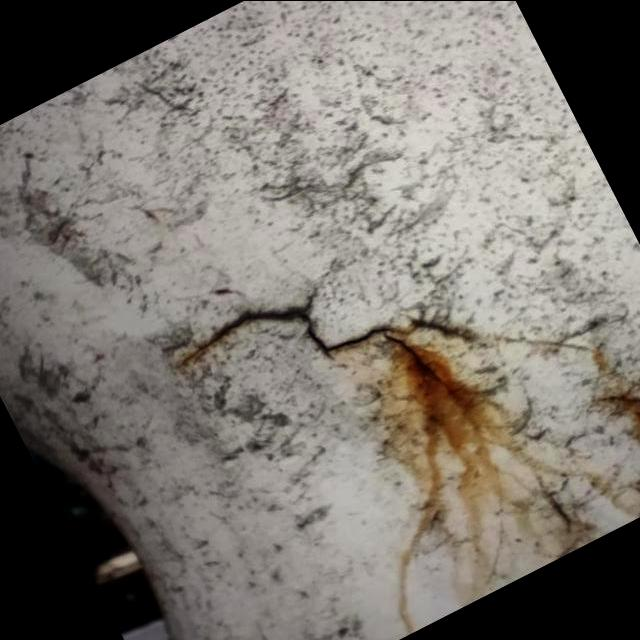defect: (176, 281, 460, 395)
